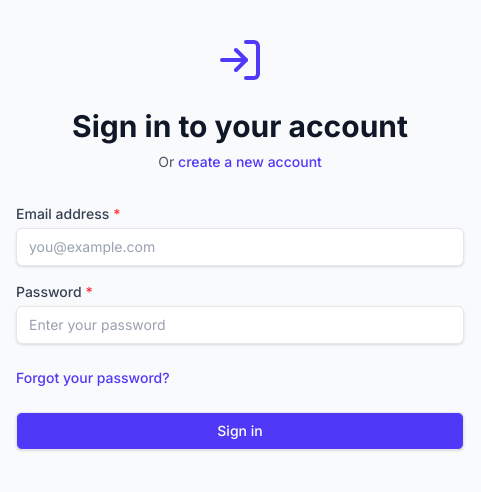
Test case: LoginPage › Validation Tests › displays error for invalid email format
Type "invalid-email" into the field labelled "Email address*" at (240, 247), box [16,228,464,266]
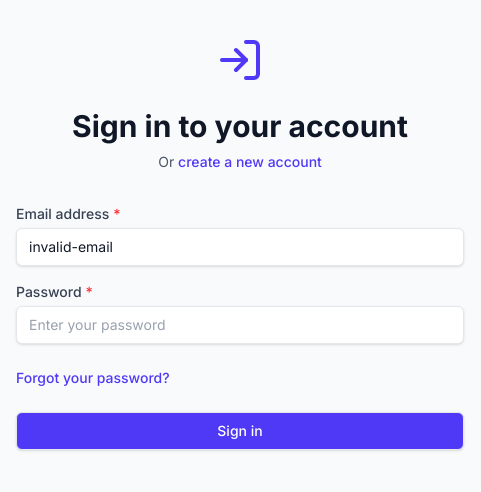
Click the button "Sign in" at (240, 431), box [16,412,464,450]
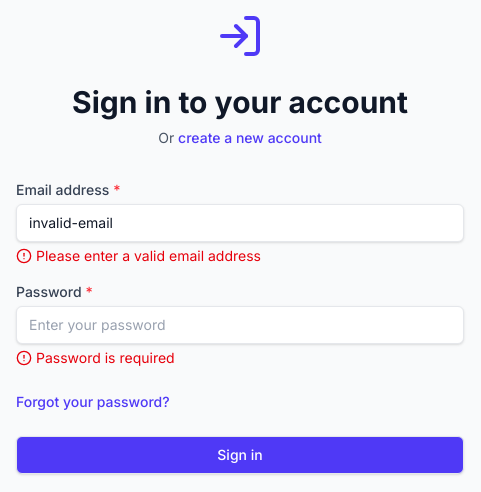
Now the text "Please enter a valid email address" is shown, box [36,246,261,266]
